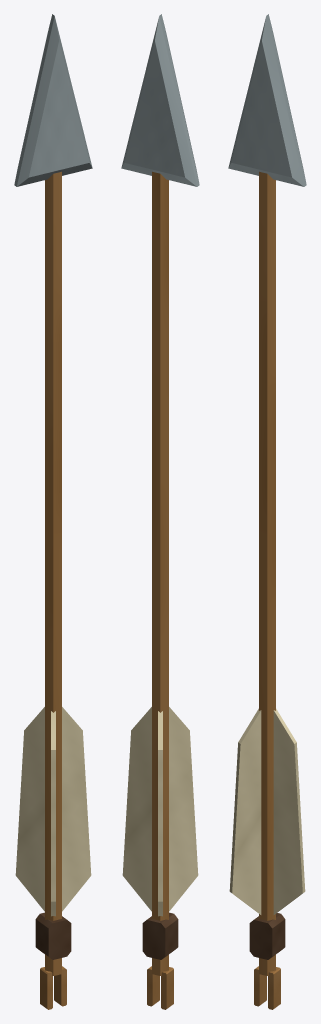
3 views of the same model, side by side, from view 1: azimuth 30°, elevation 25°; view 2: azimuth 150°, elevation 25°; view 3: azimuth 330°, elevation 25° (orthographic).
Visible parts, largest first — view 1: arrow; view 2: arrow; view 3: arrow.
Boxes of the visible parts, x1=… form: arrow: x1=14, y1=14, x2=92, y2=1009; arrow: x1=121, y1=14, x2=199, y2=1009; arrow: x1=228, y1=14, x2=306, y2=1009.
Bounding box in the file's own units: 0.0464 × 0.5781 × 0.04.
4 materials, 4 textured.
